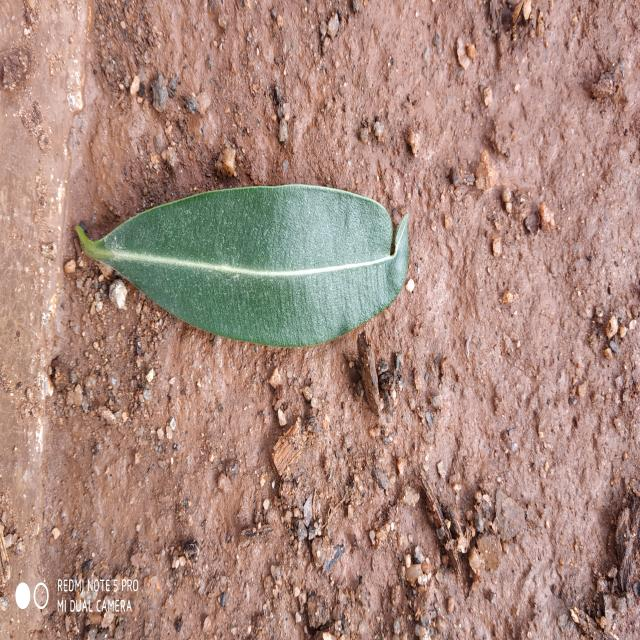ganigale: (76, 184, 409, 347)
